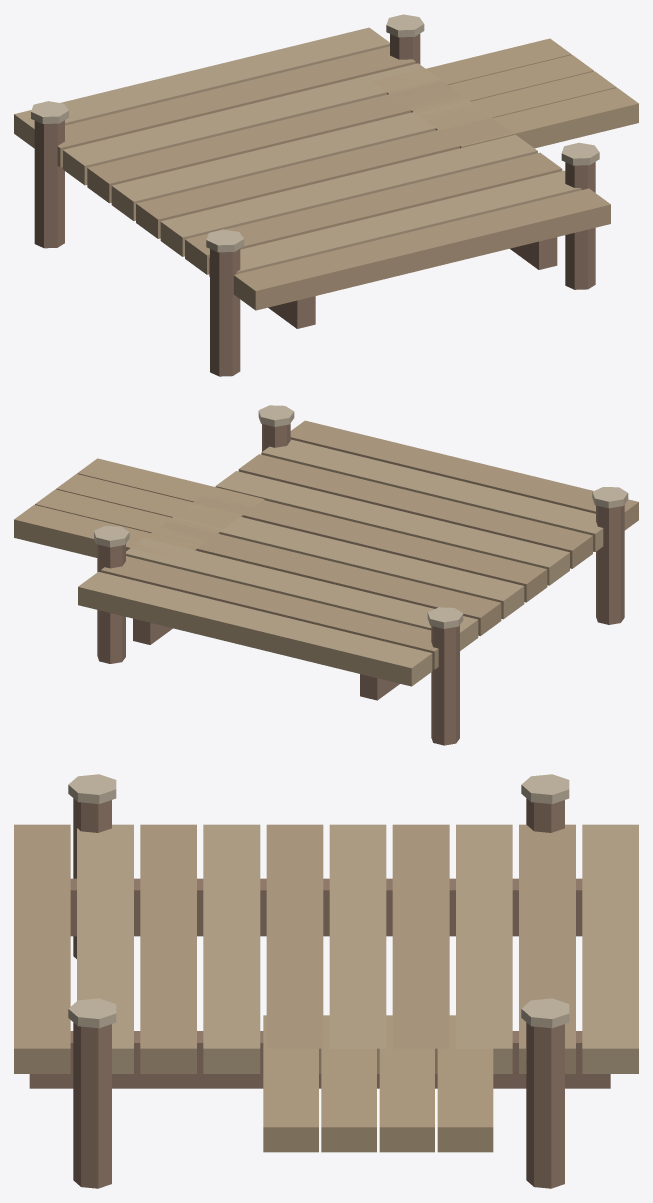
3 renders of one model, top to bottom at view 1: azimuth 30°, elevation 25°; view 2: azimuth 150°, elevation 25°; view 3: azimuth 270°, elevation 25°, orthographic. The views are drawn at different scales.
Parts seen in each view (by area): view 1: H02; view 2: H02; view 3: H02.
Part boxes in pixels (x1,y1,x2,y2): H02: (14,14,638,376); H02: (14,405,638,745); H02: (14,774,638,1188).
Size of the model in its own units: 2.93 by 0.75 by 2.47.
